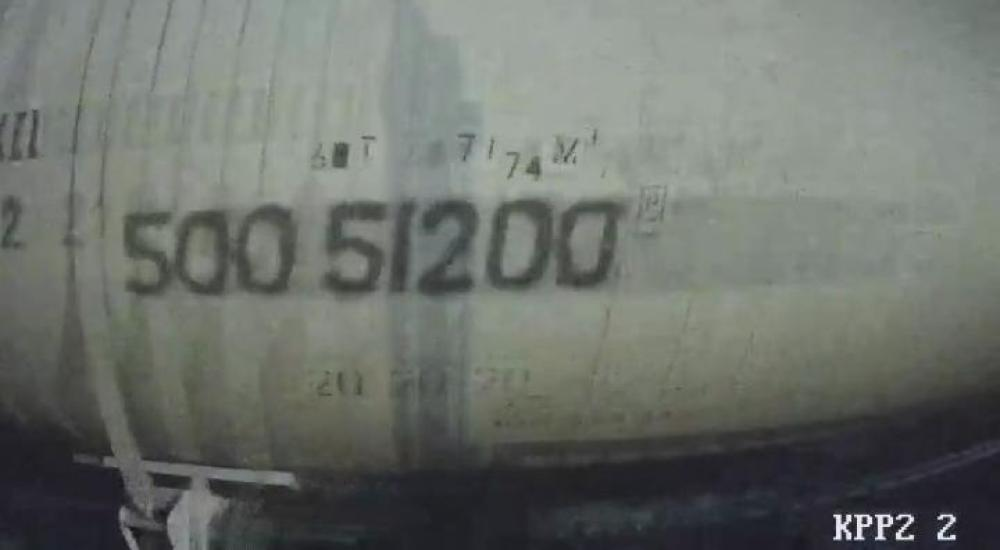Wagon-number: (113, 193, 629, 302)
